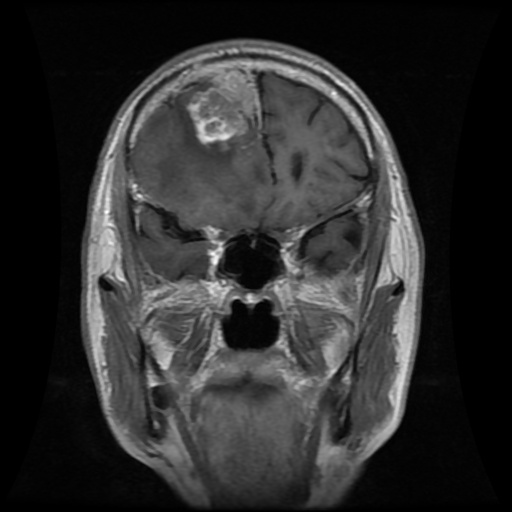meningioma: (188, 70, 262, 144)
